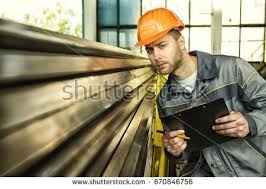helmet: (135, 6, 185, 48)
person with partial safety: (135, 4, 266, 168)
